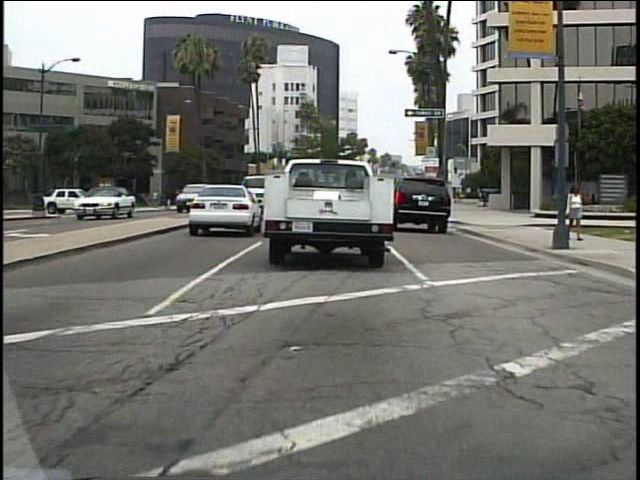person: (565, 177, 585, 246), (111, 180, 126, 214), (110, 189, 125, 220), (153, 188, 162, 211)
